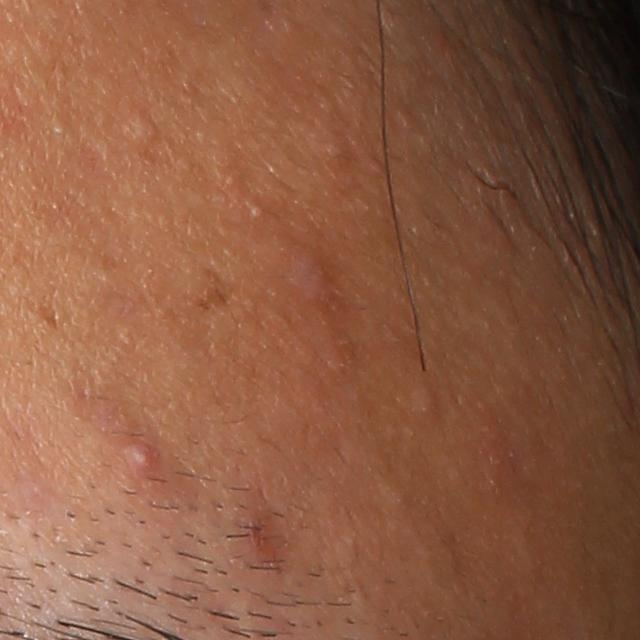comedo: (123, 106, 166, 147), (412, 383, 443, 427), (249, 200, 266, 222), (50, 116, 66, 135)
papule: (288, 250, 335, 299), (123, 437, 162, 480)
